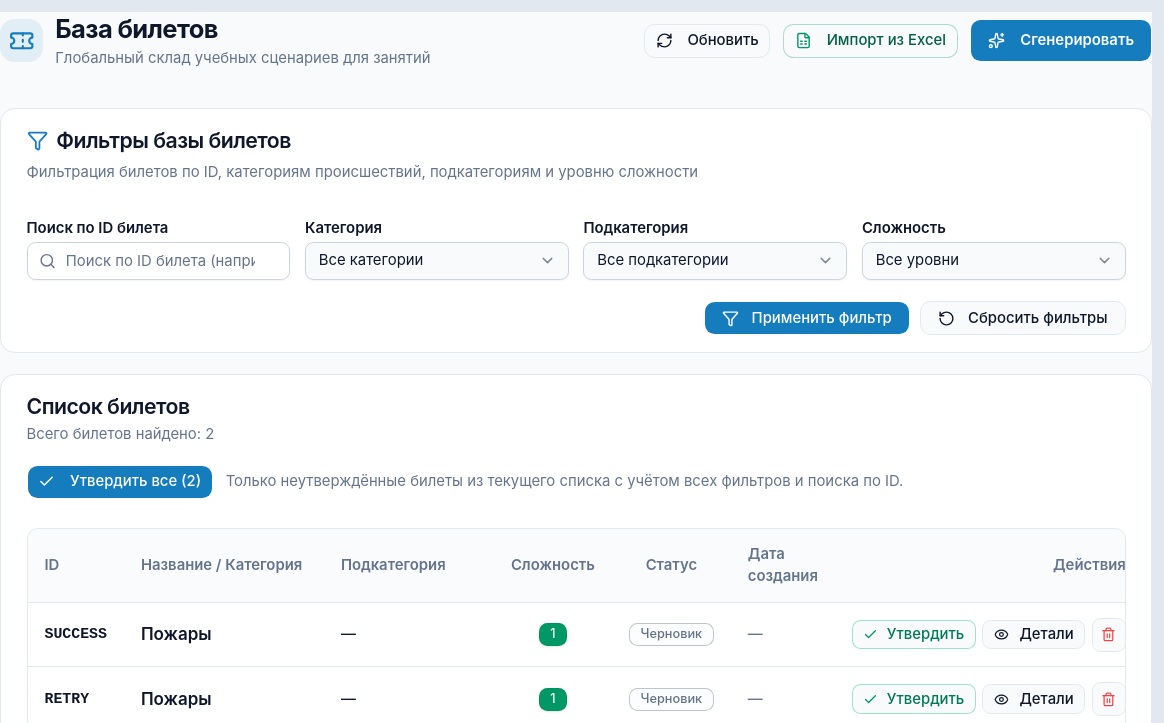
Массовое утверждение билетов › сохраняет успешные статусы, честно сообщает частичную ошибку и повторяет только неудавшиеся
This screenshot has width=1164, height=723.
What coordinates should you click on to do the following:
click the button "Утвердить все (2)"
I would click on:
 (120, 482)
Its box is [26,465,213,499].
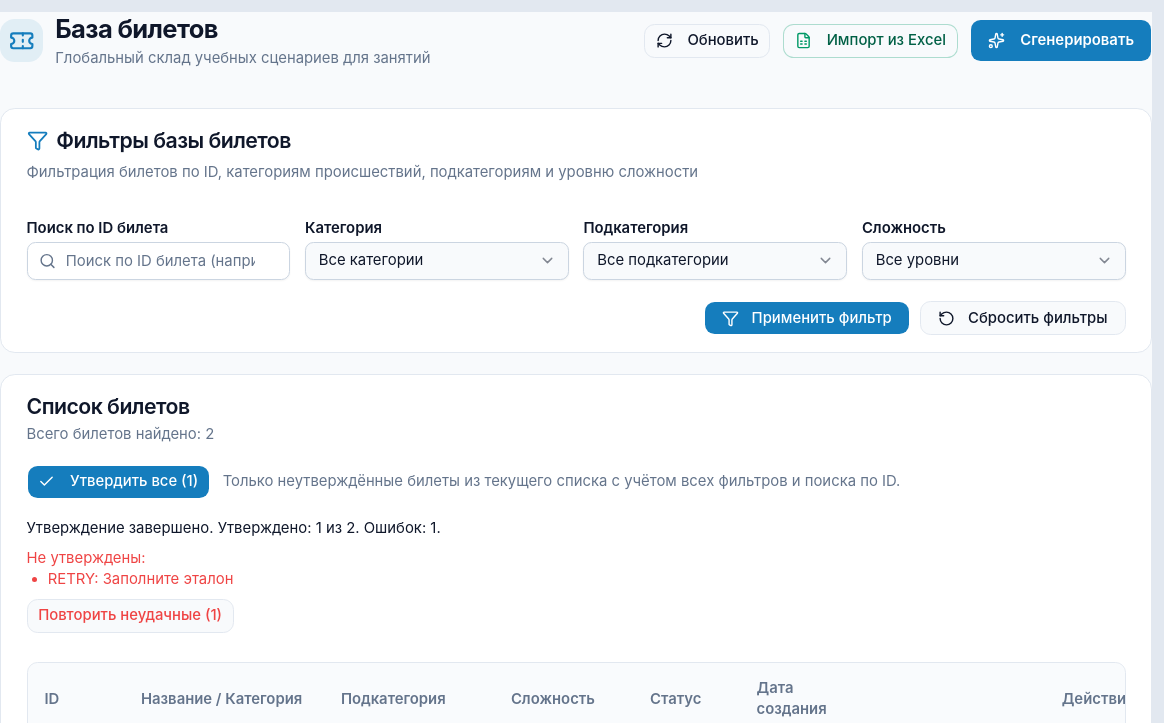
Expected: the text "Утверждение завершено. Утверждено: 1 из 2. Ошибок: 1." is shown, [26,519,441,537]
Expected: the list item "RETRY: Заполните эталон" is shown, [48,570,233,588]
What coordinates should you click on to do the following:
click the button "Повторить неудачные (1)"
I would click on:
 (130, 616)
Its box is [26,598,234,632].
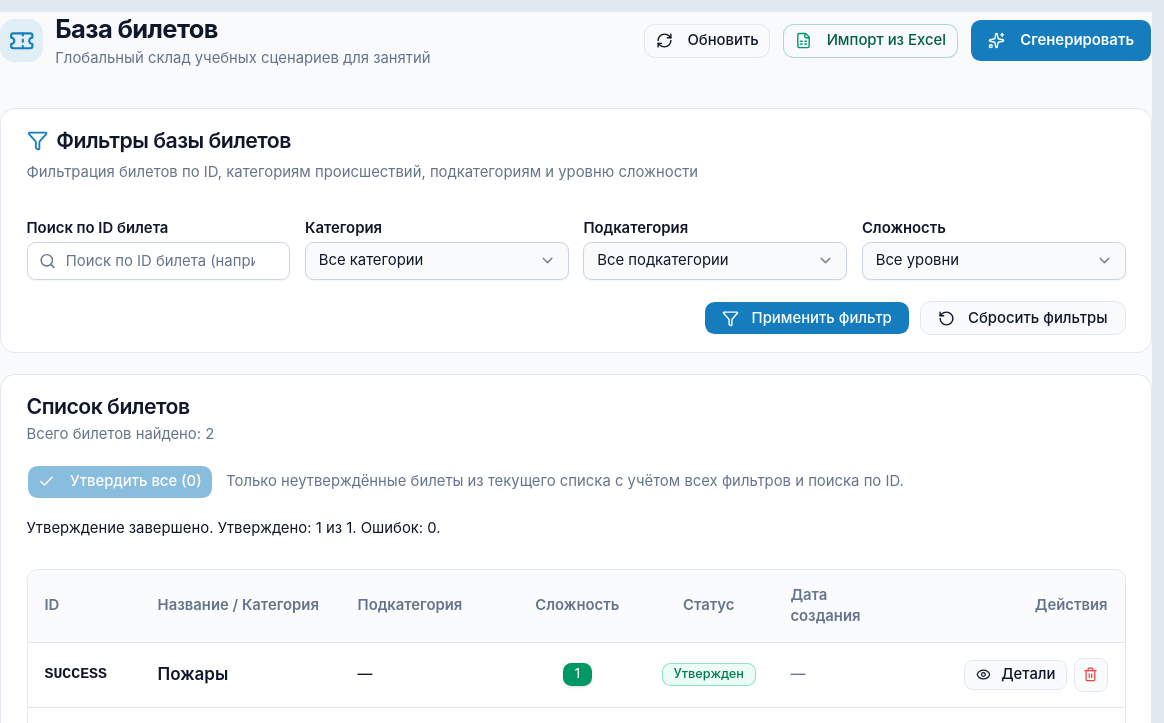
Expected: the text "Утверждение завершено. Утверждено: 1 из 1. Ошибок: 0." is shown, [26,519,441,537]
